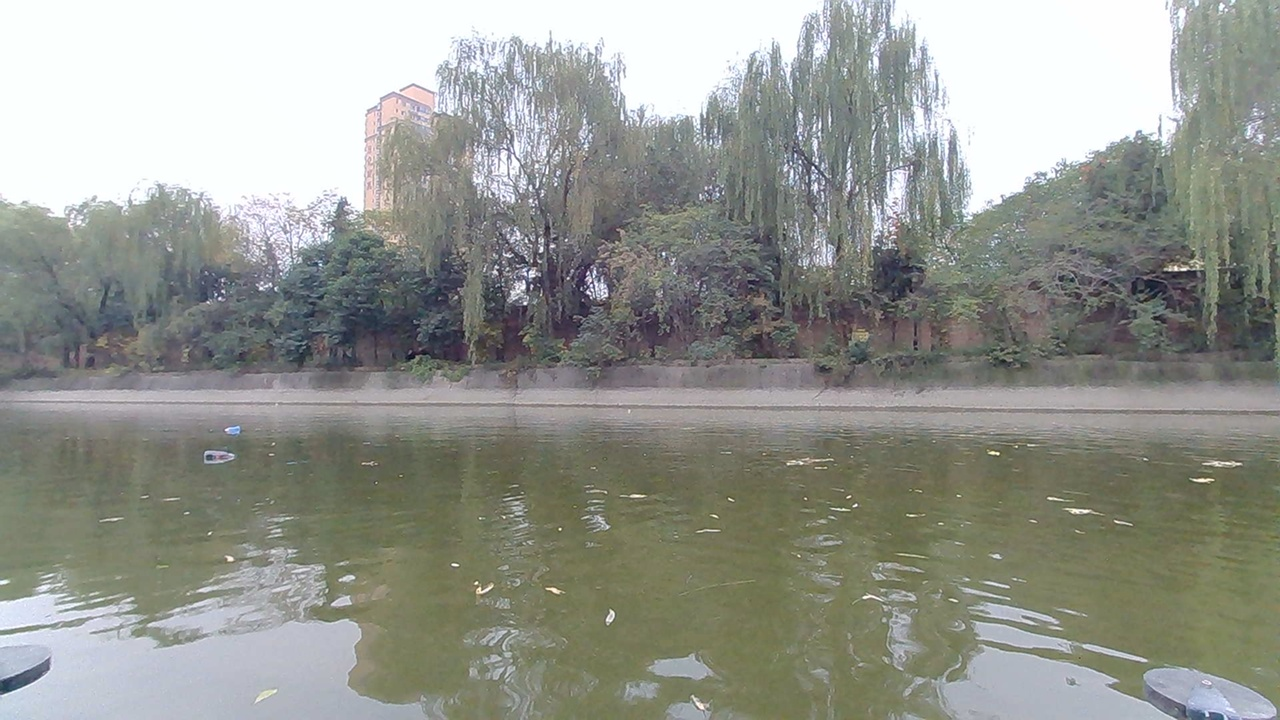bottle: (190, 436, 234, 464), (220, 414, 253, 438)
